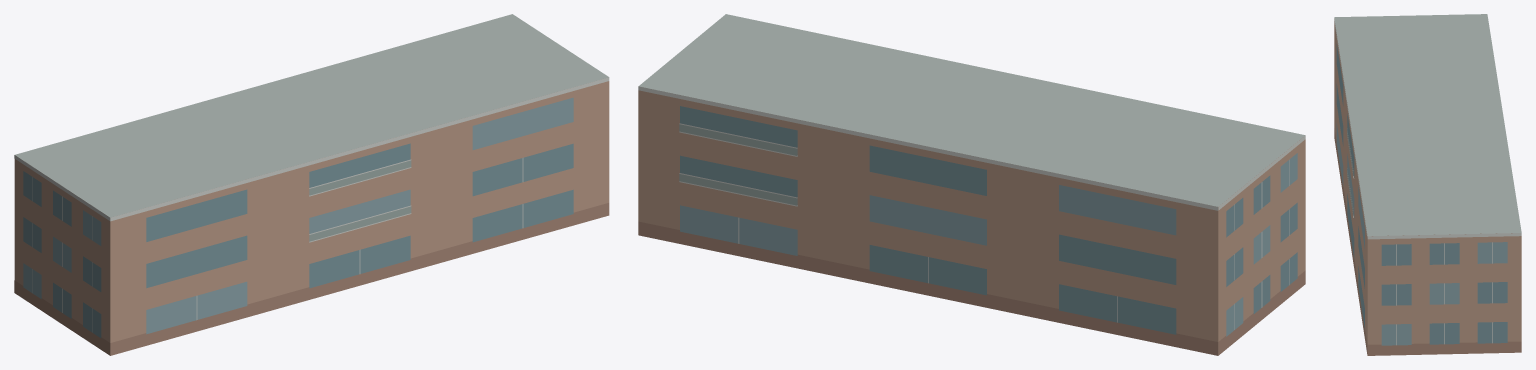
File: survey-upis-32908790.glb
The picture shows the model from 3 angles, left to right: view 1: azimuth 30°, elevation 25°; view 2: azimuth 150°, elevation 25°; view 3: azimuth 270°, elevation 25°; orthographic projection. The views are drawn at different scales.
Visible parts, largest first — view 1: survey-upis-32908790.tmp; view 2: survey-upis-32908790.tmp; view 3: survey-upis-32908790.tmp.
Boxes of the visible parts, bbox=[...] form: survey-upis-32908790.tmp: bbox=[14, 14, 609, 355]; survey-upis-32908790.tmp: bbox=[638, 14, 1305, 355]; survey-upis-32908790.tmp: bbox=[1334, 14, 1521, 355].
Size of the model in its own units: 36.44 by 9.15 by 13.
